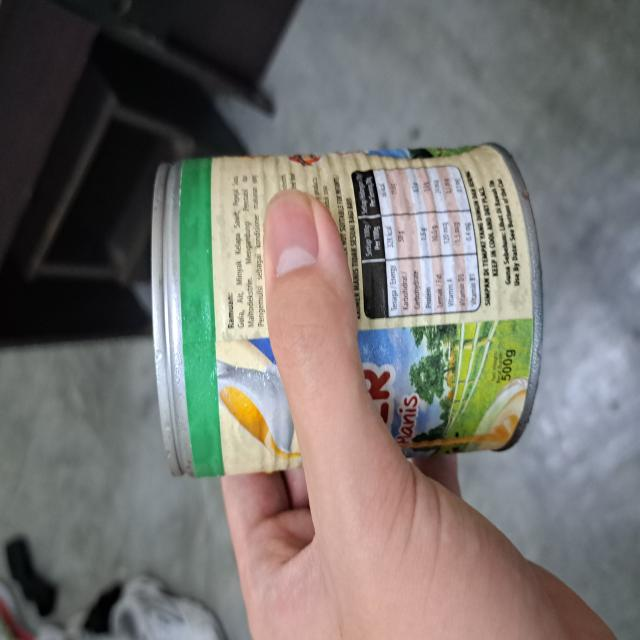can: (150, 146, 545, 482)
